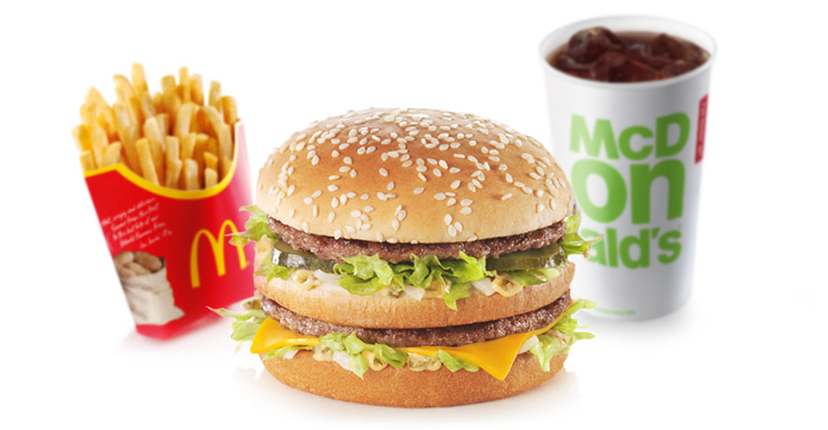mcdonalds: (187, 216, 253, 293)
